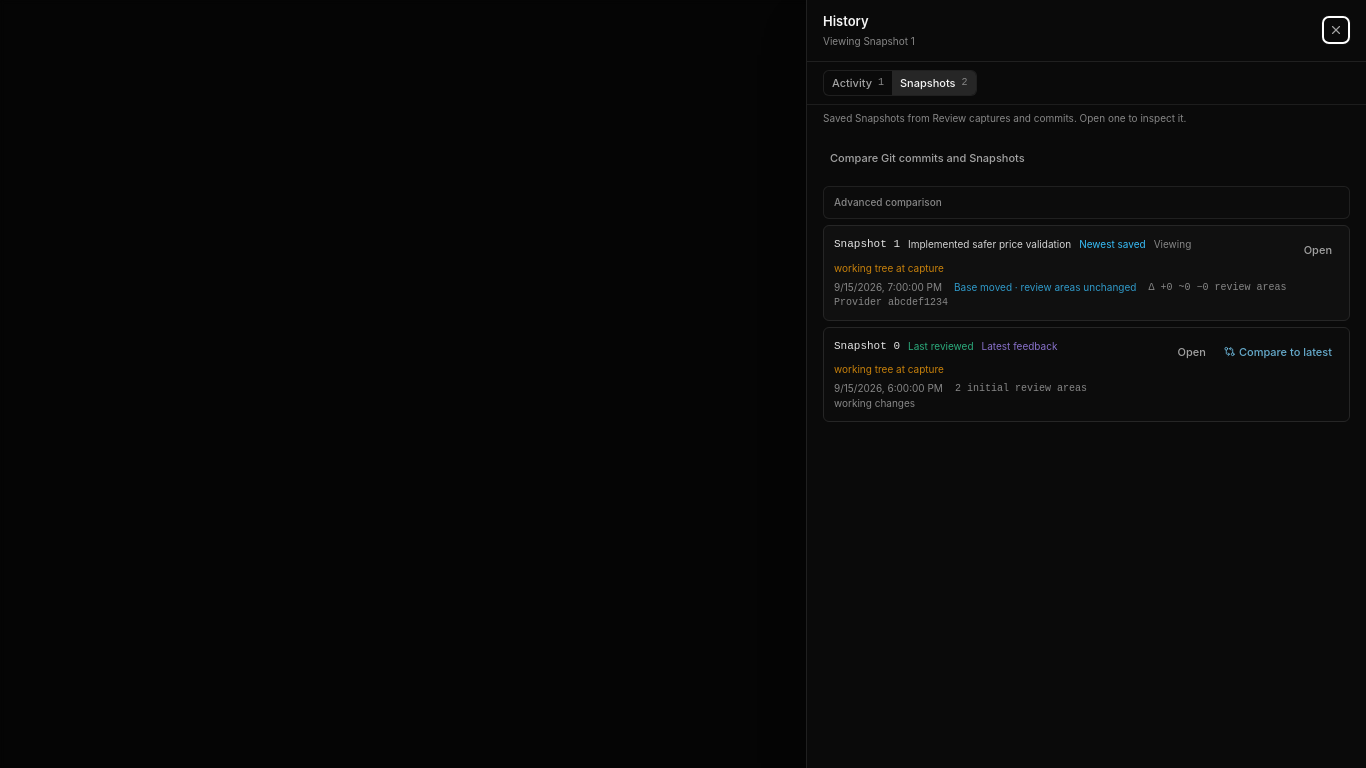
Test: ReviewHistorySheet › shows a deployment outcome as an agent activity line naming the commit
Click the radio button labelled "Activity 1" at {"x": 858, "y": 83}, box [824,70,892,95]
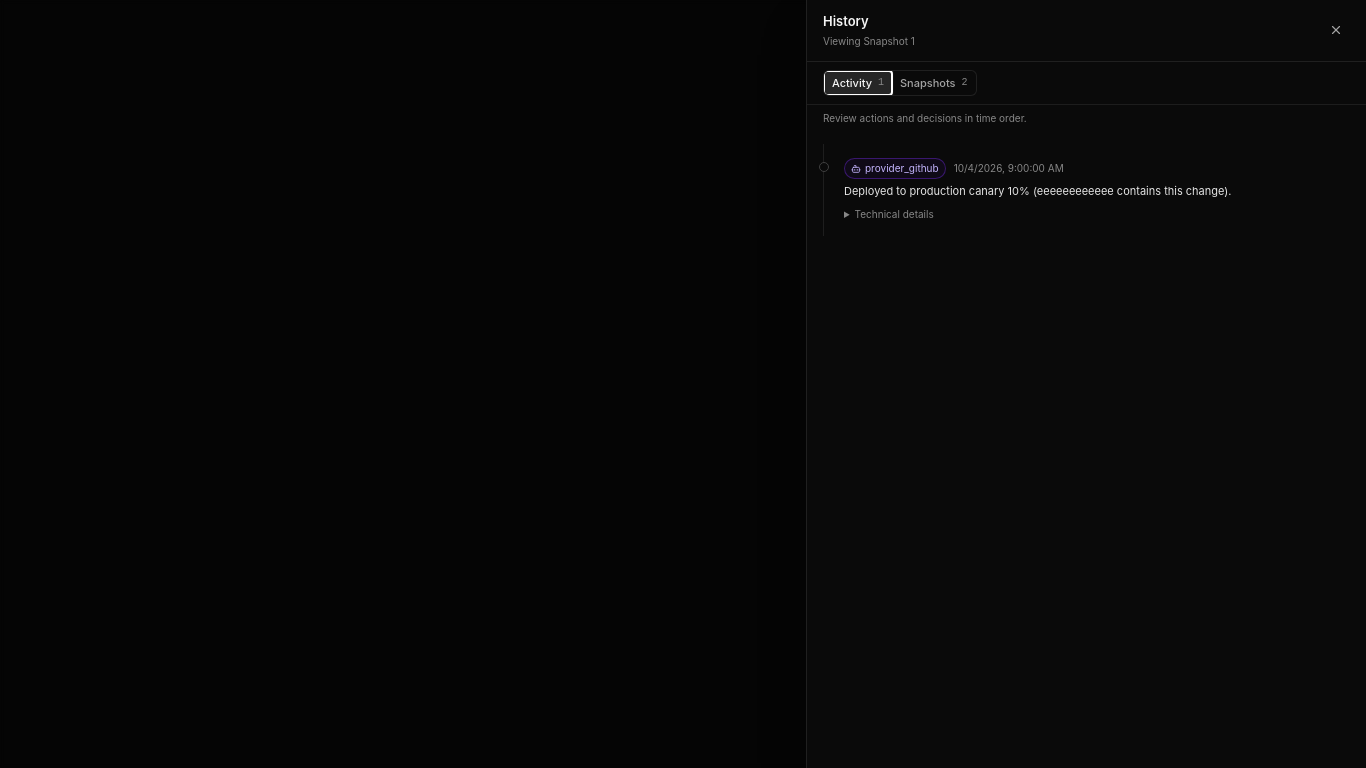
Result: the text "Deployed to production canary 10% (eeeeeeeeeeee contains this change)." is shown at [844,184,1232,198]
Result: the text "provider_github" is shown at [844,158,946,179]
